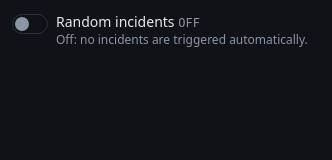
Scenario: RandomIncidentsControl › keeps the last status and says it may be out of date when a refresh fails
Click the switch: click(30, 24) [12,14,48,34]
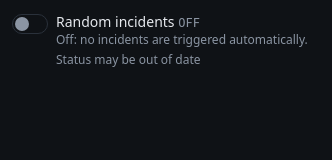
Result: the text "Status may be out of date" is shown at [56,51,201,68]
